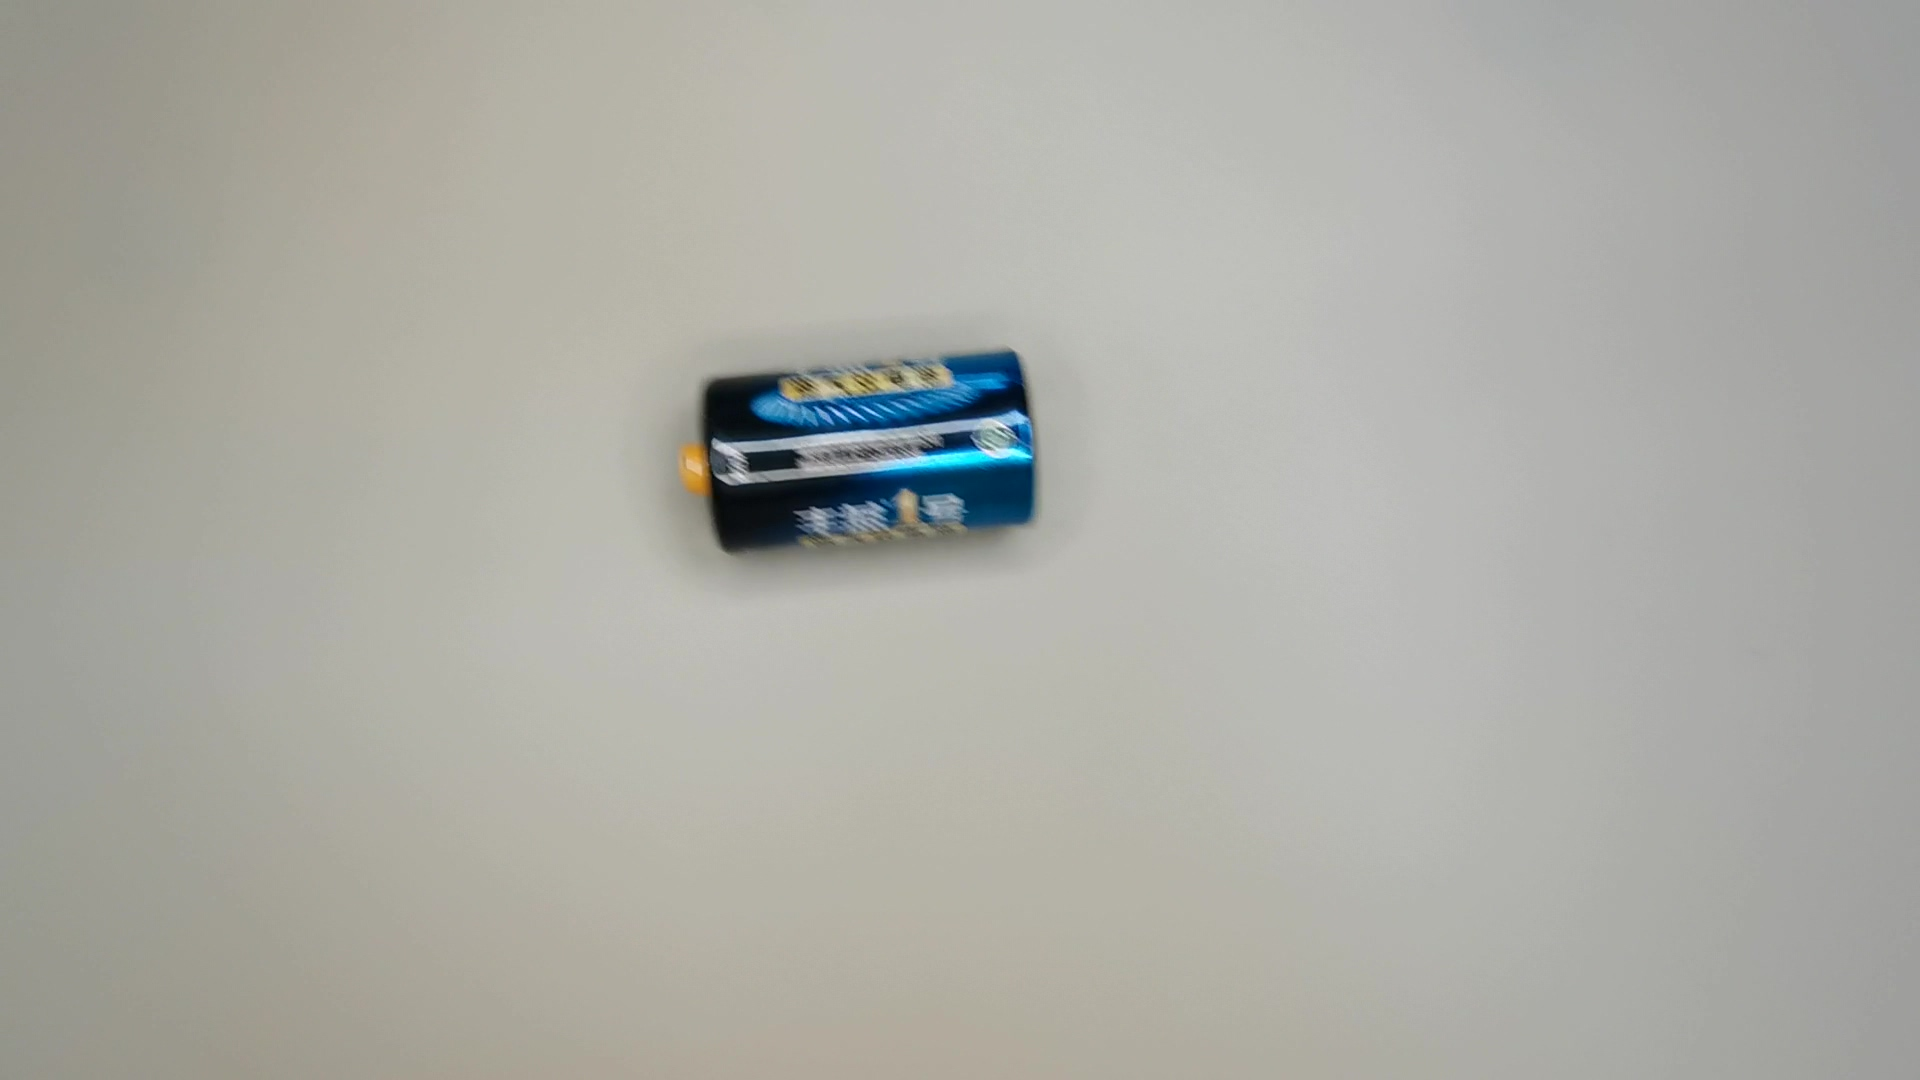battery: (673, 343, 1047, 560)
